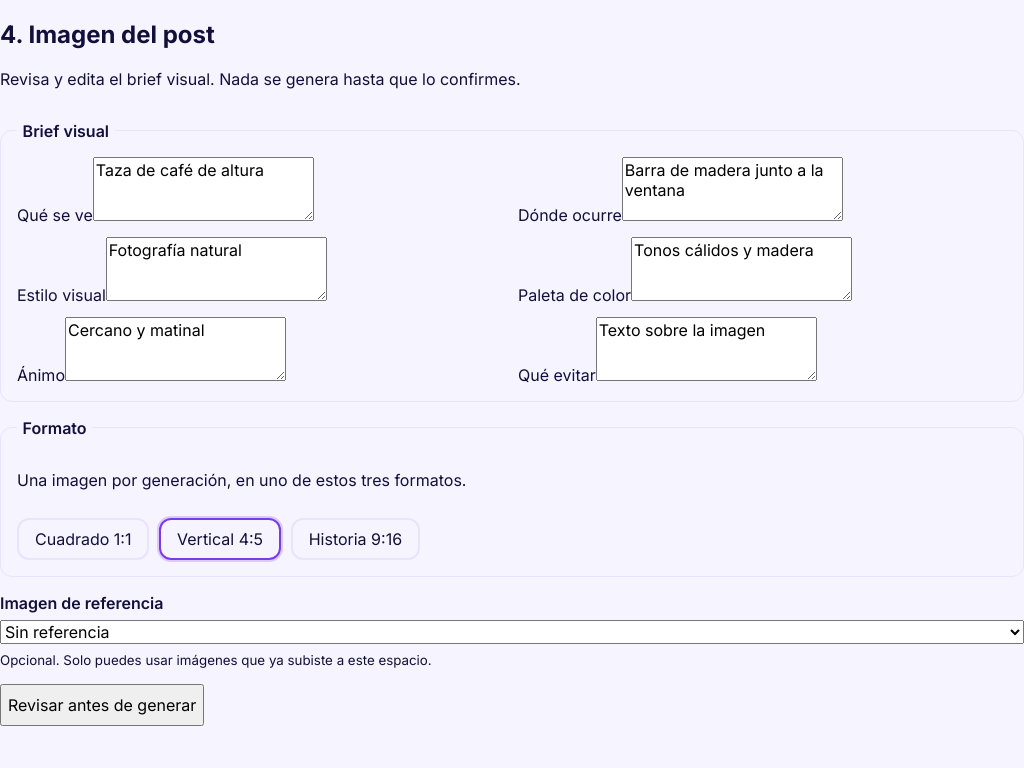
Test: ImageGenerationStep › preflight shows the cost and the remaining budget before anything is spent
The width and height of the screenshot is (1024, 768).
Click the button "Revisar antes de generar" at (102,705), box [0, 684, 204, 726]
(page scrolled)
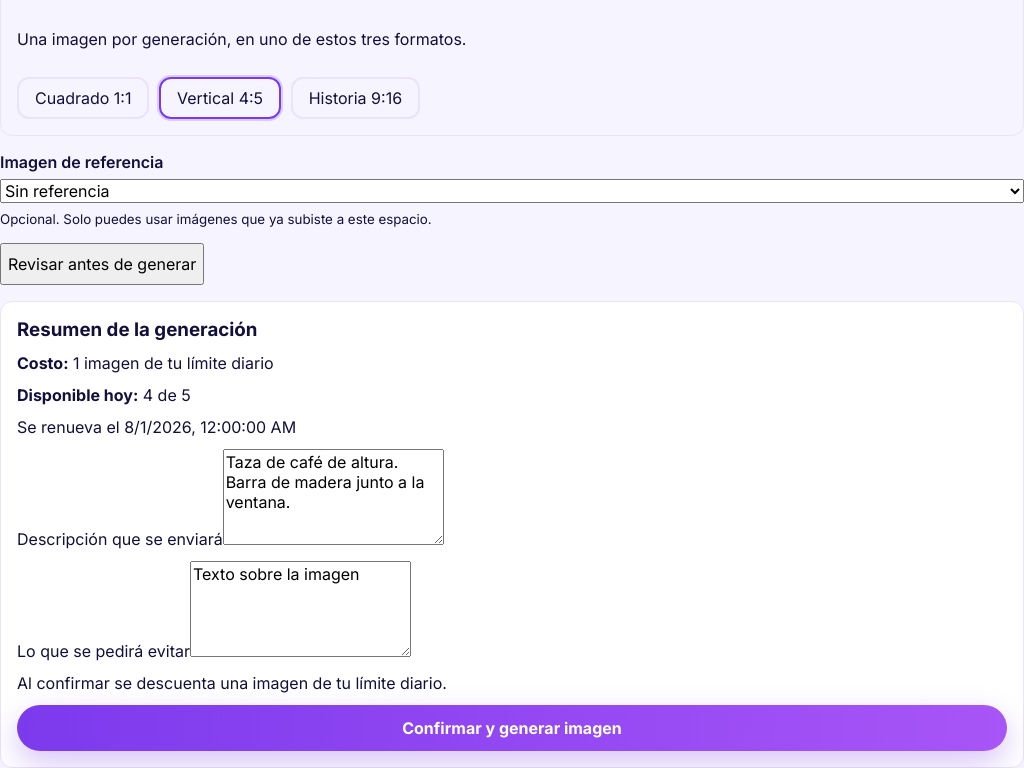
Expected: the text "1 imagen de tu límite diario" is shown, [73, 353, 274, 373]
Expected: the text "4 de 5" is shown, [143, 385, 191, 405]
Expected: the text box showing "Taza de café de altura. Barra de madera junto a la ventana." is shown, [223, 449, 444, 545]
